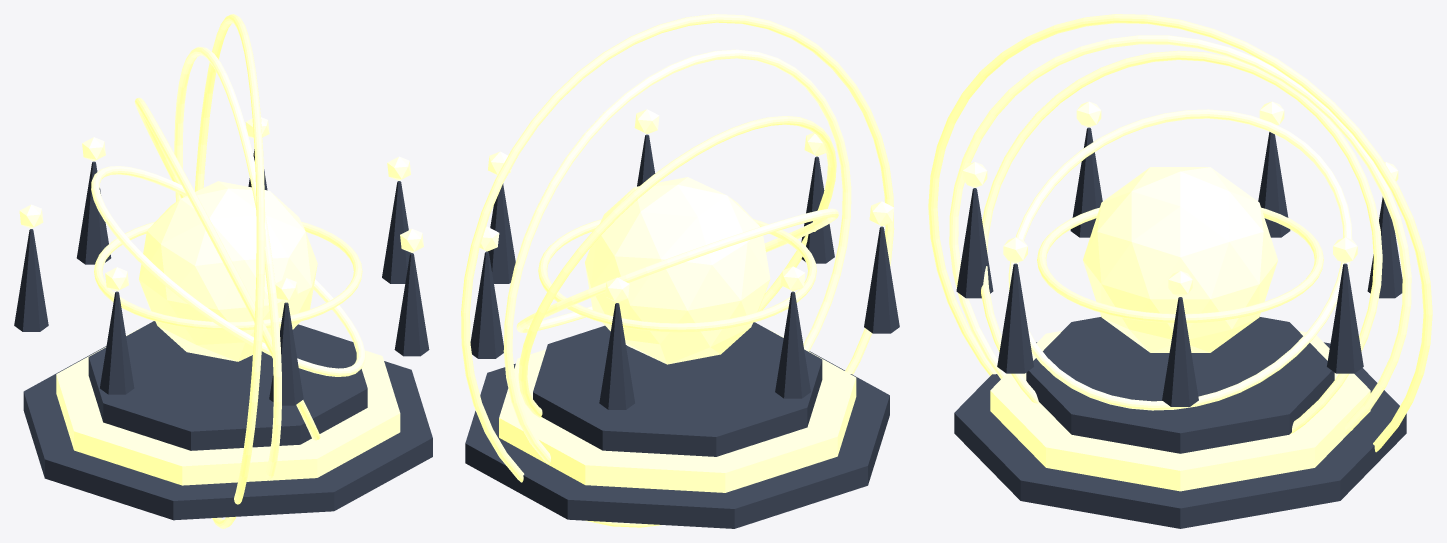
The model's file is gpu-blender-v34.glb.
The picture shows the model from 3 angles, left to right: view 1: azimuth 30°, elevation 25°; view 2: azimuth 150°, elevation 25°; view 3: azimuth 270°, elevation 25°; orthographic projection. The views are drawn at different scales.
Visible parts, largest first — view 1: Cylinder.002, Cylinder, SovereignCore_zoth-os-website, Cylinder.001, Torus.004, Torus.003, Torus.001, Torus, Torus.002, Cone.006, Cone.004, Cone.003 (+3 smaller); view 2: Cylinder.002, SovereignCore_zoth-os-website, Cylinder, Cylinder.001, Torus.004, Torus.003, Torus.002, Torus.001, Torus, Cone.004, Cone.003, Cone.002 (+4 smaller); view 3: SovereignCore_zoth-os-website, Cylinder.002, Cylinder, Cylinder.001, Torus.004, Torus.003, Torus.002, Torus.001, Torus, Cone.001, Cone.006, Cone (+4 smaller).
Part boxes in pixels (box(x1,y1,x2,y2)): Cylinder.002: box(88, 321, 367, 450); Cylinder: box(23, 346, 432, 520); SovereignCore_zoth-os-website: box(139, 181, 317, 361); Cylinder.001: box(56, 328, 400, 485); Torus.004: box(195, 14, 265, 528); Torus.003: box(174, 46, 281, 480); Torus.001: box(91, 166, 365, 376); Torus: box(94, 222, 362, 330); Torus.002: box(135, 97, 320, 440); Cone.006: box(394, 253, 429, 356); Cone.004: box(100, 291, 134, 394); Cone.003: box(14, 229, 48, 331); Cylinder.002: box(533, 322, 822, 456); SovereignCore_zoth-os-website: box(585, 177, 770, 364); Cylinder: box(465, 351, 889, 528); Cylinder.001: box(499, 330, 856, 492); Torus.004: box(461, 14, 894, 527); Torus.003: box(503, 49, 851, 463); Torus.002: box(518, 116, 836, 417); Torus.001: box(516, 208, 838, 332); Torus: box(538, 219, 816, 332); Cone.004: box(864, 226, 899, 333); Cone.003: box(775, 291, 810, 398); Cone.002: box(599, 303, 634, 409); SovereignCore_zoth-os-website: box(1083, 167, 1277, 352); Cylinder.002: box(1026, 317, 1334, 453); Cylinder: box(954, 342, 1406, 528); Cylinder.001: box(990, 330, 1370, 491); Torus.004: box(928, 14, 1432, 452); Torus.003: box(949, 35, 1411, 434); Torus.002: box(981, 50, 1382, 433); Torus.001: box(1008, 109, 1352, 410); Torus: box(1037, 207, 1323, 322); Cone.001: box(1327, 263, 1363, 373); Cone.006: box(997, 263, 1033, 373); Cone: box(1162, 297, 1198, 406).
Size of the model in its own units: 4.41 by 5.33 by 4.9.
